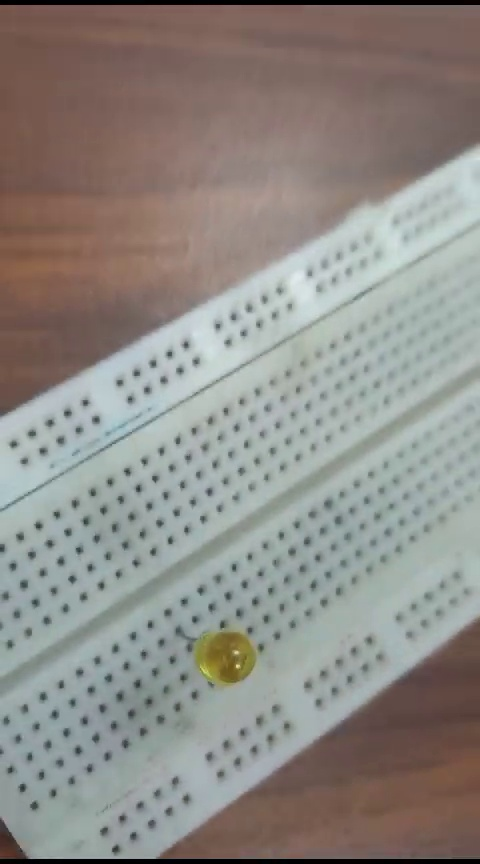LED: (176, 617, 262, 699)
